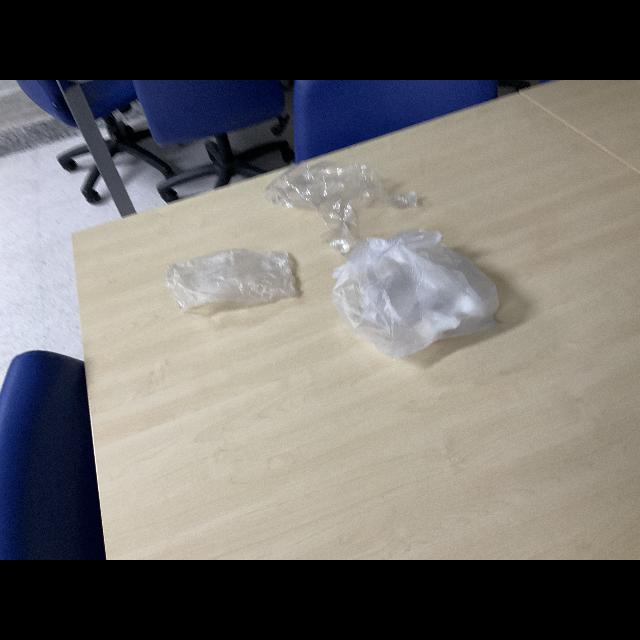plastic_bag: (323, 224, 511, 356)
scrap_plastic: (258, 149, 430, 249), (154, 236, 296, 320)
